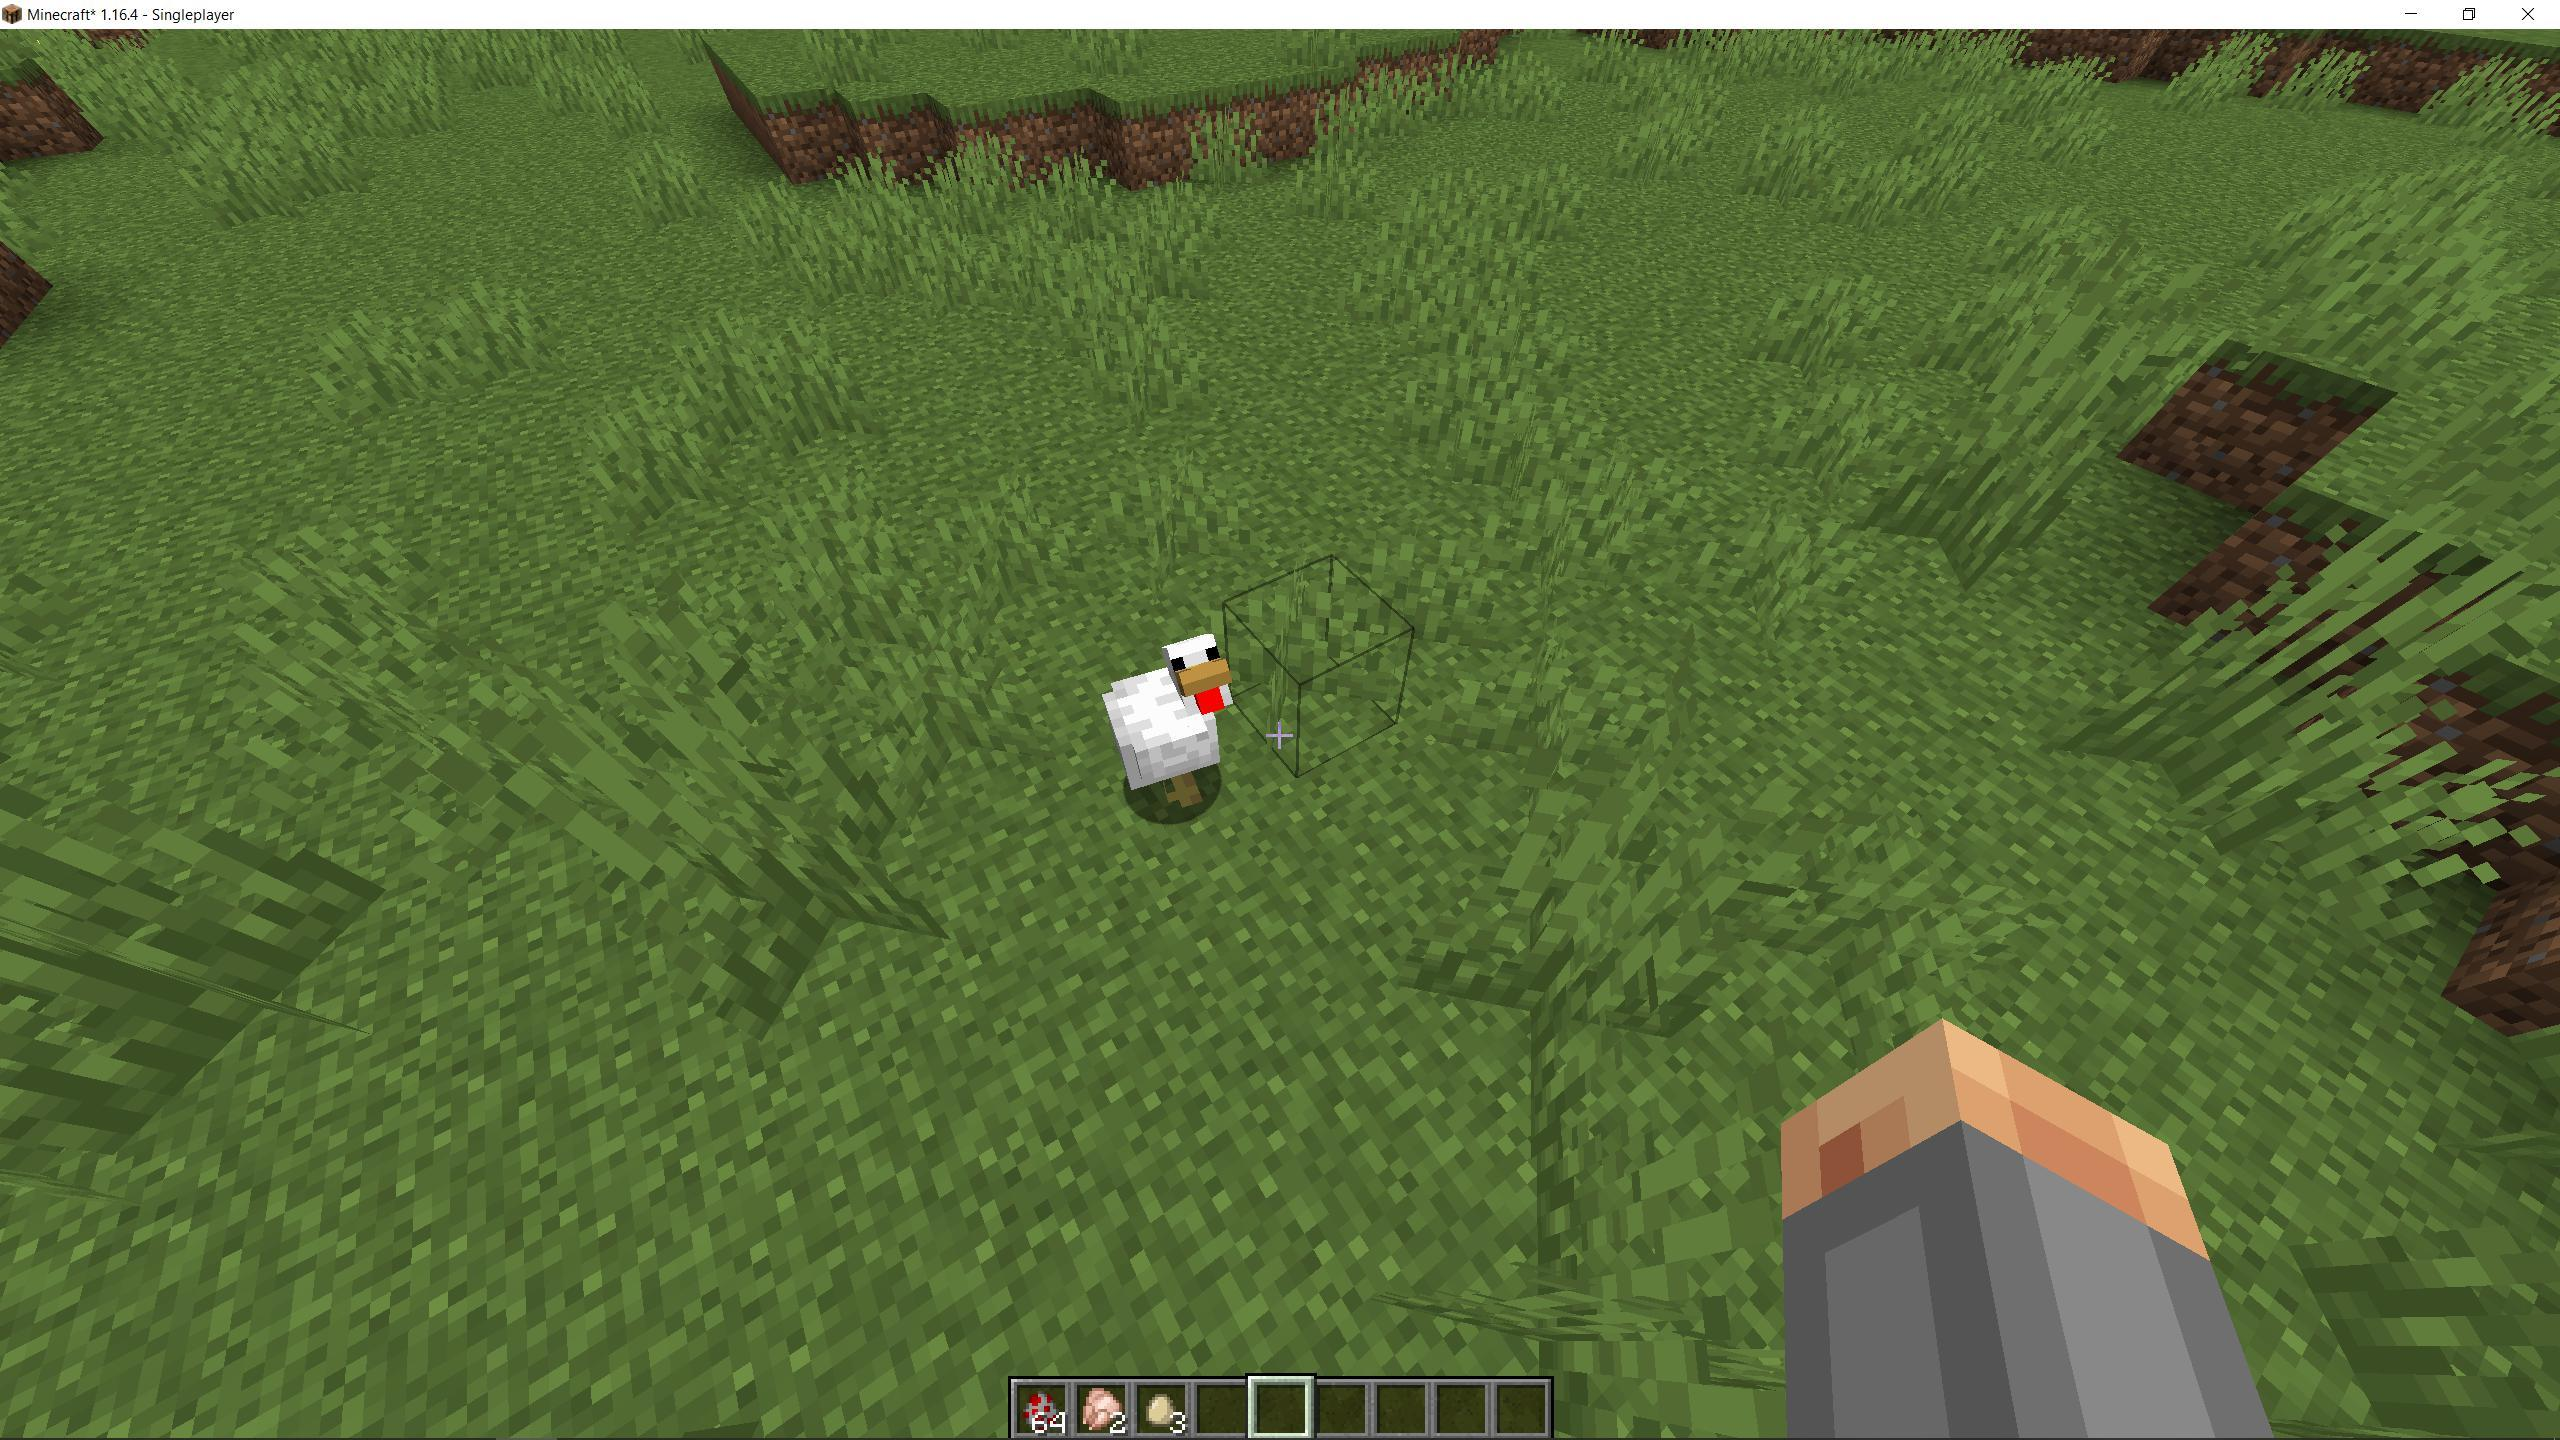chicken: (1108, 628, 1245, 826)
